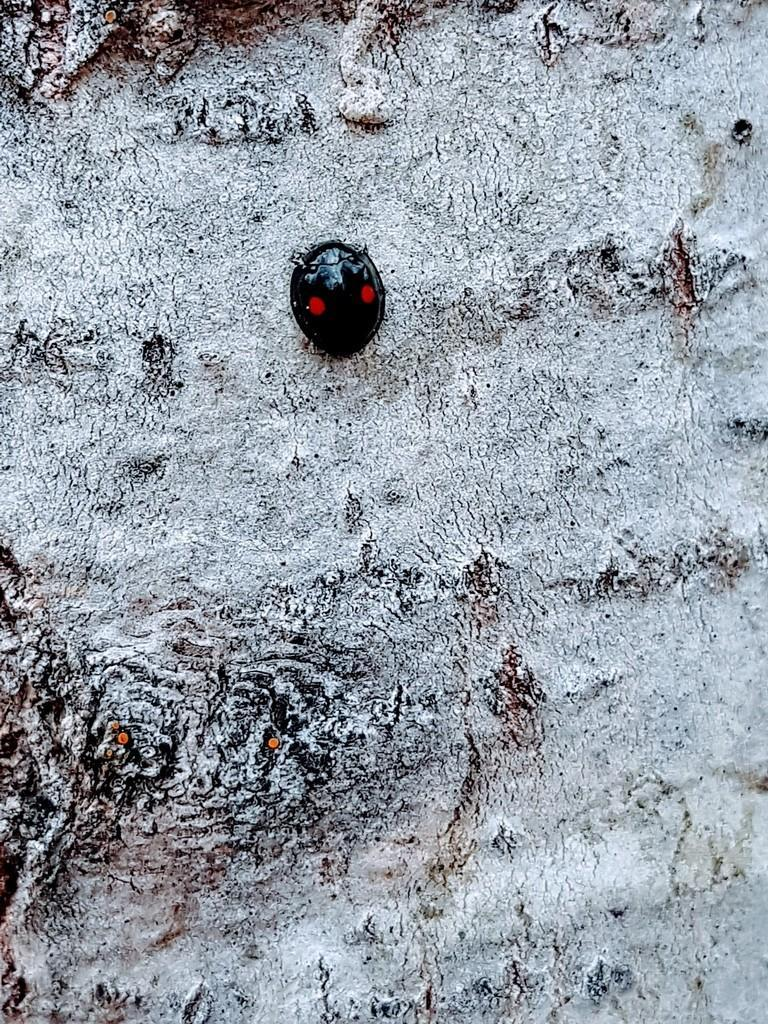ladybug: (289, 236, 394, 364)
